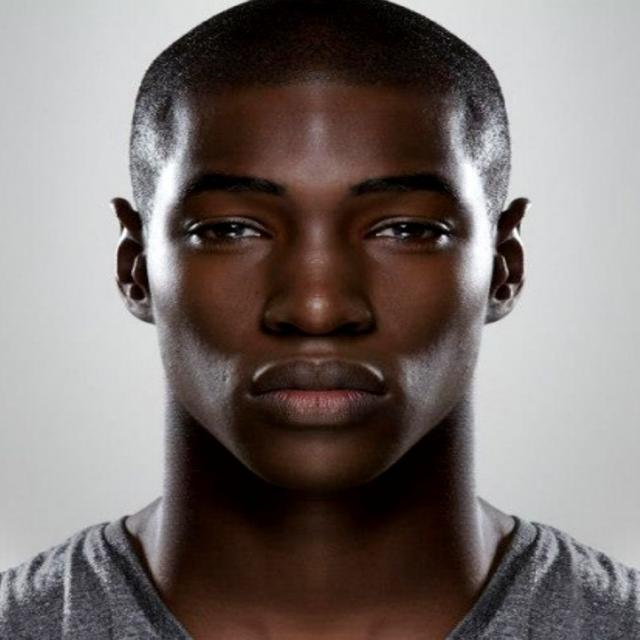earlobe: (130, 294, 156, 324), (484, 295, 508, 324)
eye: (188, 220, 266, 244), (374, 220, 444, 245)
nose: (262, 315, 376, 362)
wholeear: (485, 197, 534, 324), (110, 198, 158, 322)
